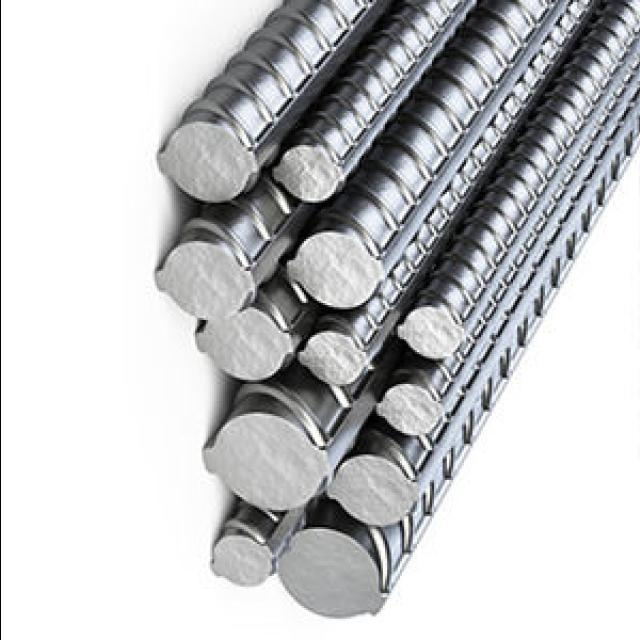Rebar: (196, 406, 331, 526), (271, 514, 387, 623), (155, 122, 265, 214), (157, 241, 263, 331), (281, 223, 388, 305), (193, 306, 293, 392), (327, 453, 421, 525), (197, 529, 280, 598), (392, 306, 469, 364), (374, 386, 444, 449), (293, 333, 365, 393), (278, 139, 342, 203)
